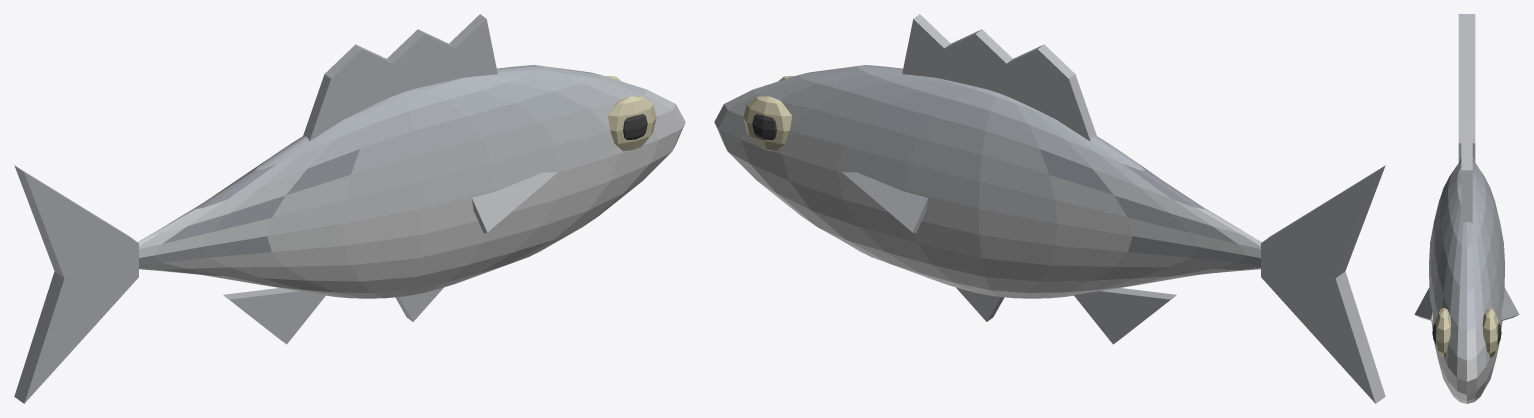
Rendered from WhiteBass.glb.
3 views of the same model, side by side, from view 1: azimuth 30°, elevation 25°; view 2: azimuth 150°, elevation 25°; view 3: azimuth 270°, elevation 25° (orthographic). The views are drawn at different scales.
Visible parts, largest first — view 1: WhiteBass; view 2: WhiteBass; view 3: WhiteBass.
Boxes of the visible parts, x1,y1,x2,y2 form: WhiteBass: [14, 14, 685, 403]; WhiteBass: [714, 14, 1385, 403]; WhiteBass: [1414, 14, 1519, 403].
Size of the model in its own units: 2.9 by 1.19 by 0.4748.
